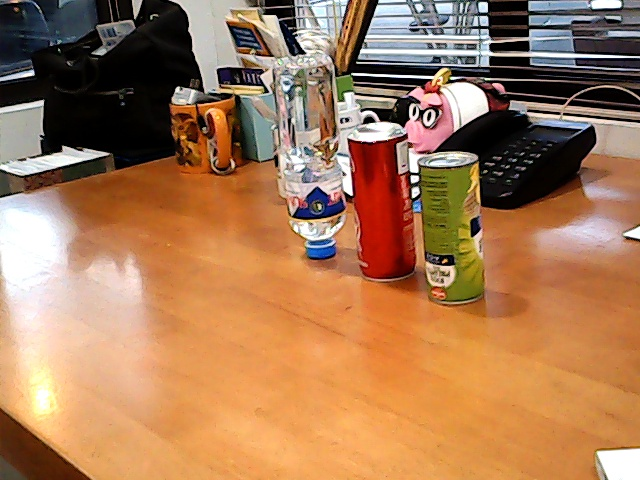Cola: (338, 115, 425, 295)
Pine Juice: (409, 134, 496, 310)
Summit Water: (259, 45, 350, 272)
